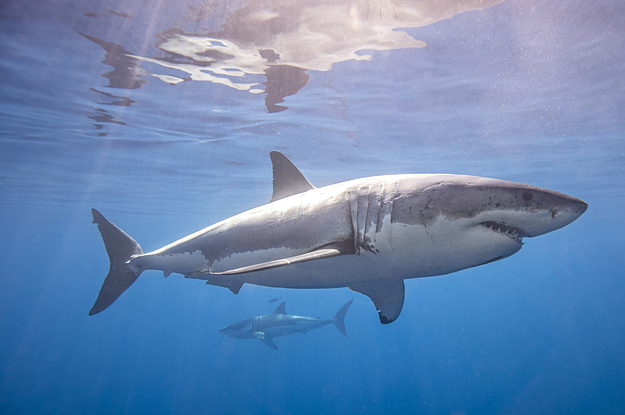Shark: (86, 150, 589, 326), (220, 298, 352, 351)
